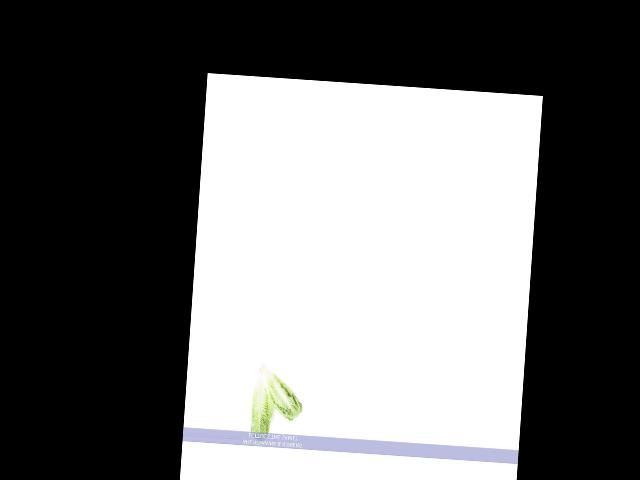lettuce: (252, 364, 304, 425)
